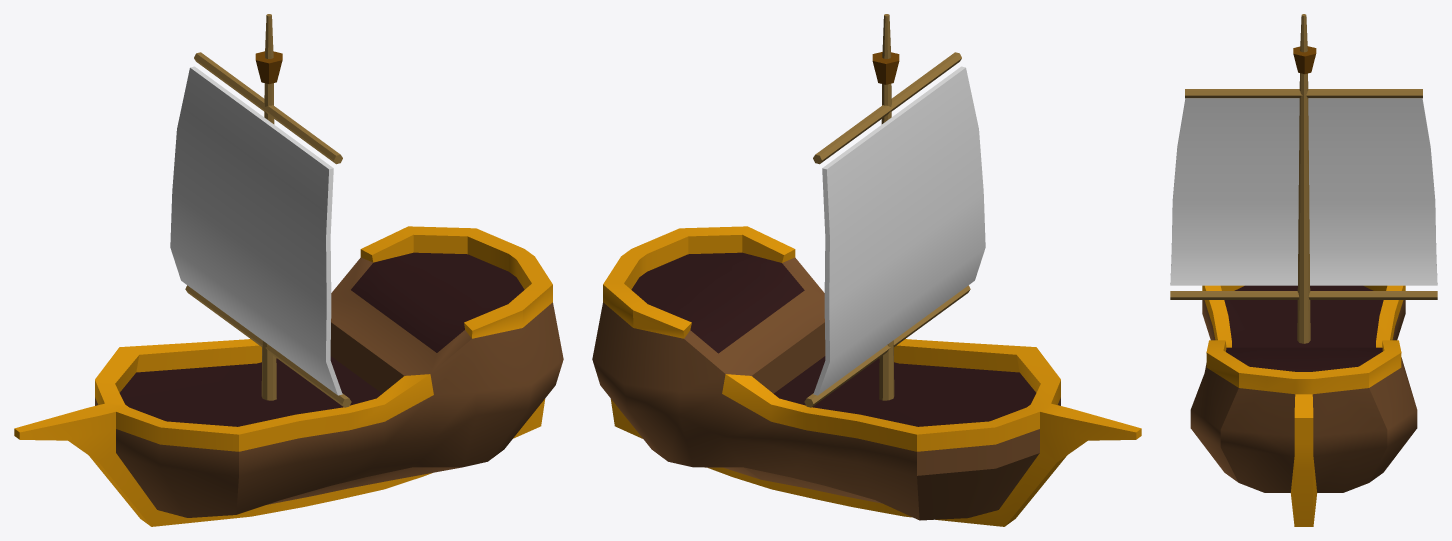
File: ship.fbx
3 views of the same model, side by side, from view 1: azimuth 30°, elevation 25°; view 2: azimuth 150°, elevation 25°; view 3: azimuth 270°, elevation 25° (orthographic). The views are drawn at different scales.
Parts seen in each view (by area): view 1: pCube7, polySurface9, polySurface10, polySurface7, polySurface8, polySurface6; view 2: pCube7, polySurface9, polySurface10, polySurface7, polySurface8, polySurface6; view 3: polySurface9, pCube7, polySurface7, polySurface10, polySurface8, polySurface6.
Boxes of the visible parts, <box> form: pCube7: <box>14,226,563,526</box>; polySurface9: <box>170,66,342,395</box>; polySurface10: <box>194,52,342,164</box>; polySurface7: <box>261,14,276,400</box>; polySurface8: <box>185,285,351,407</box>; polySurface6: <box>255,51,282,84</box>; pCube7: <box>592,226,1141,526</box>; polySurface9: <box>813,66,985,395</box>; polySurface10: <box>813,52,961,164</box>; polySurface7: <box>879,14,894,400</box>; polySurface8: <box>804,285,970,407</box>; polySurface6: <box>872,52,899,84</box>; polySurface9: <box>1170,98,1437,285</box>; pCube7: <box>1190,285,1417,526</box>; polySurface7: <box>1297,14,1310,343</box>; polySurface10: <box>1185,89,1422,98</box>; polySurface8: <box>1170,291,1437,299</box>; polySurface6: <box>1293,46,1316,74</box>.
Bounding box in the file's own units: 0.0312 × 0.028 × 0.016.
